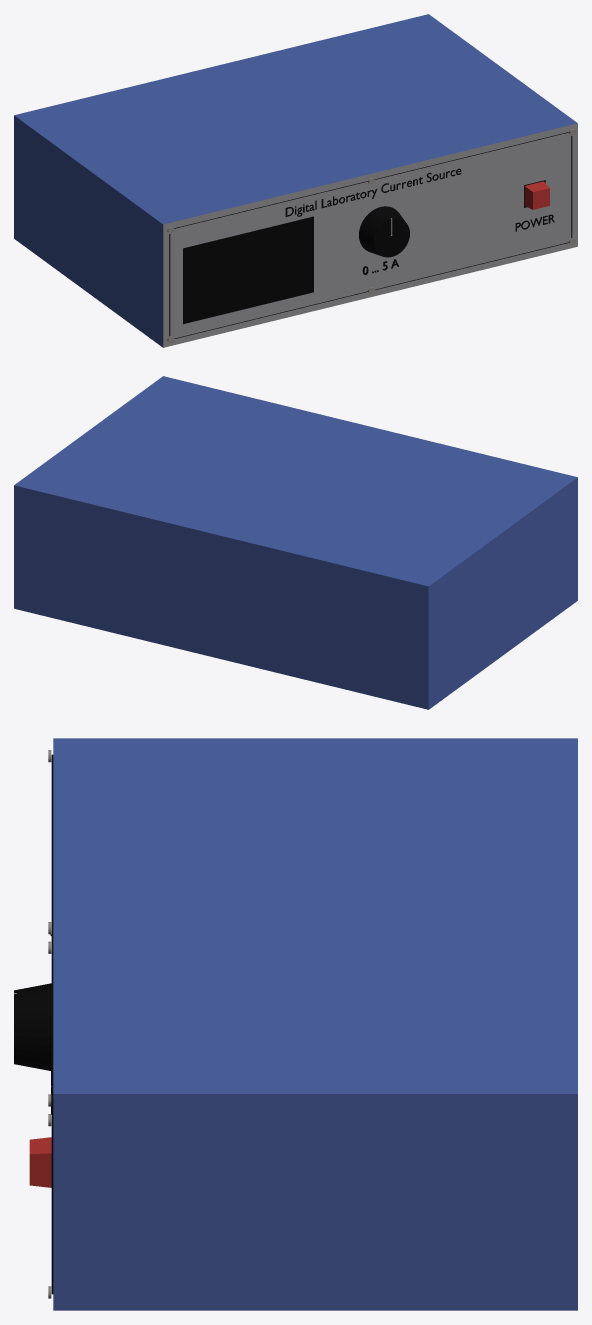
The model's file is currentSource.glb.
The picture shows the model from 3 angles, top to bottom: view 1: azimuth 30°, elevation 25°; view 2: azimuth 150°, elevation 25°; view 3: azimuth 270°, elevation 25°; orthographic projection. The views are drawn at different scales.
Visible parts, largest first — view 1: stand, contrast, power; view 2: stand; view 3: stand, contrast, power.
Part boxes in pixels (x1,y1,x2,y2): stand: (14,14,577,347); contrast: (359,206,409,257); power: (524,181,549,209); stand: (14,376,577,709); stand: (48,738,577,1310); contrast: (14,983,51,1071); power: (29,1137,51,1187).
Bounding box in the file's own units: 240 × 68.22 × 161.
